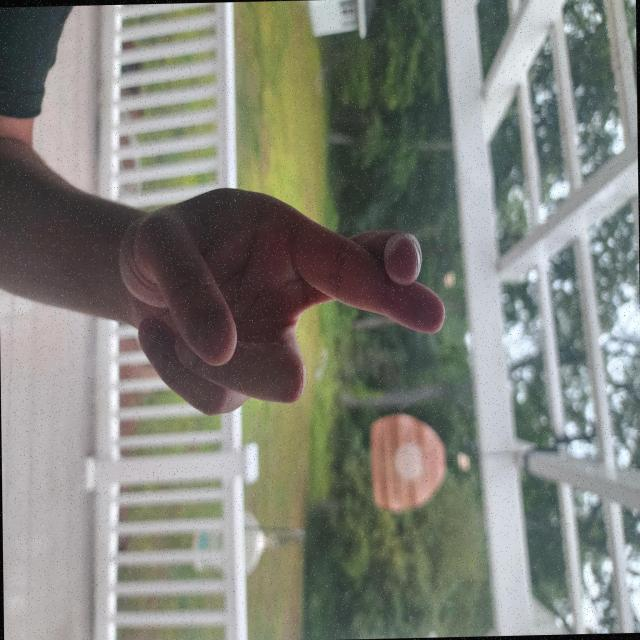R: (288, 249, 477, 640)
